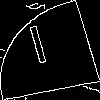I: (24, 24, 54, 74)
